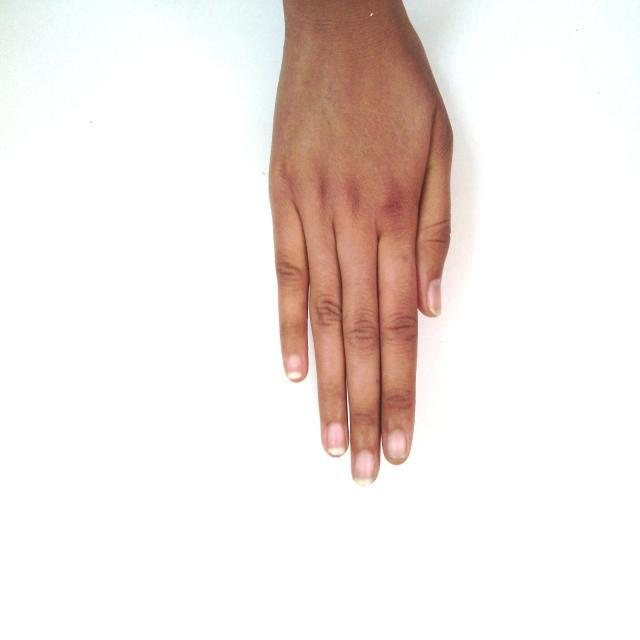Fingernail: (354, 452, 375, 485), (385, 429, 407, 460), (326, 423, 345, 455), (428, 280, 442, 316), (287, 356, 303, 377)
